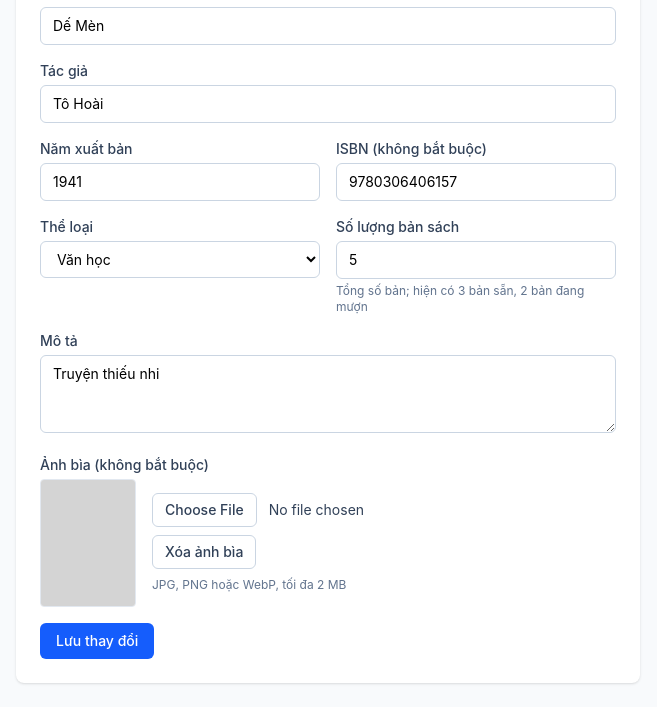
Test: EditBookPage (2.2.5) › server báo số lượng nhỏ hơn số đang mượn (vừa có người mượn) → lỗi tại field số lượng
(page scrolled)
Click the button "Lưu thay đổi": (97, 641) [40,623,154,659]
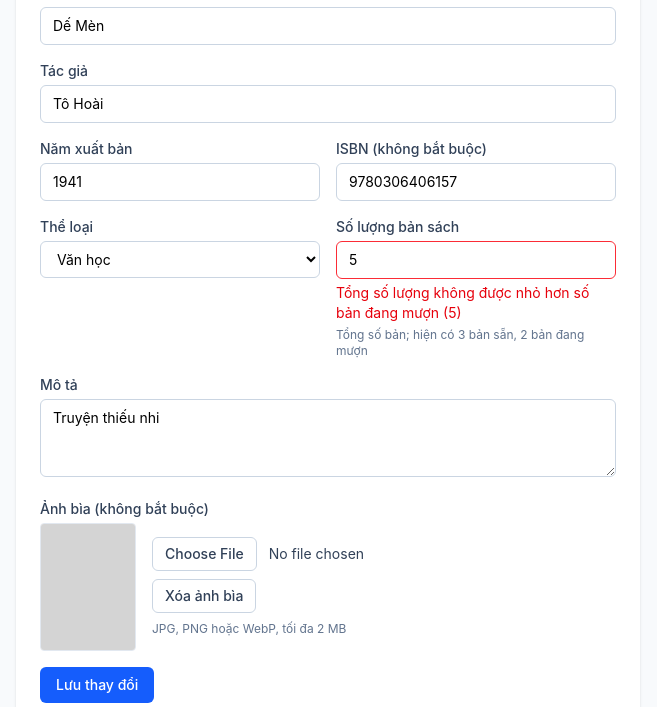
Result: the text "Tổng số lượng không được nhỏ hơn số bản đang mượn (5)" is shown at [336,283,616,323]
